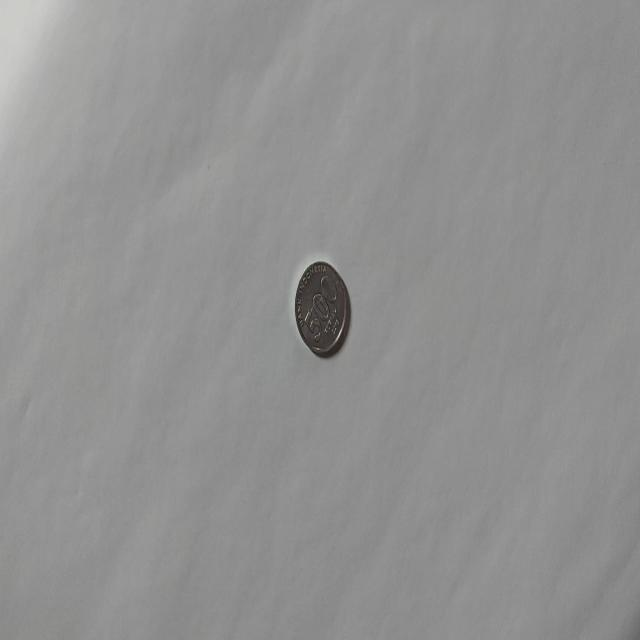lima ratus rupiah: (294, 258, 351, 358)
